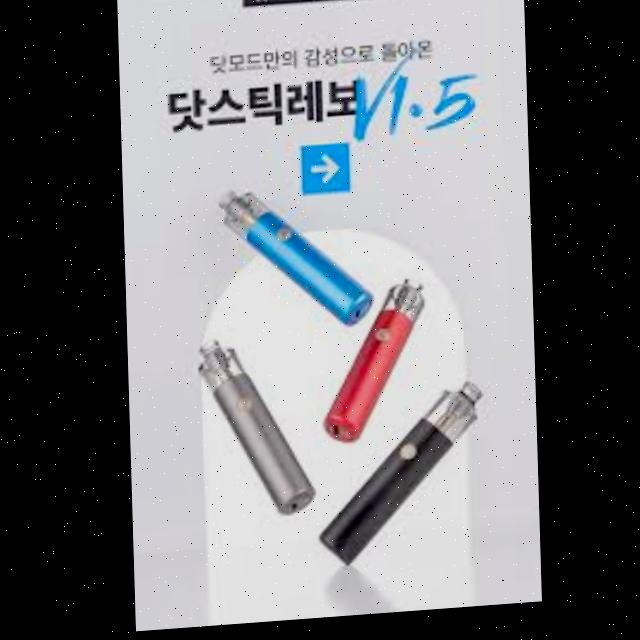vape: (313, 389, 488, 576), (215, 183, 372, 341), (193, 339, 316, 528), (315, 284, 427, 452)
